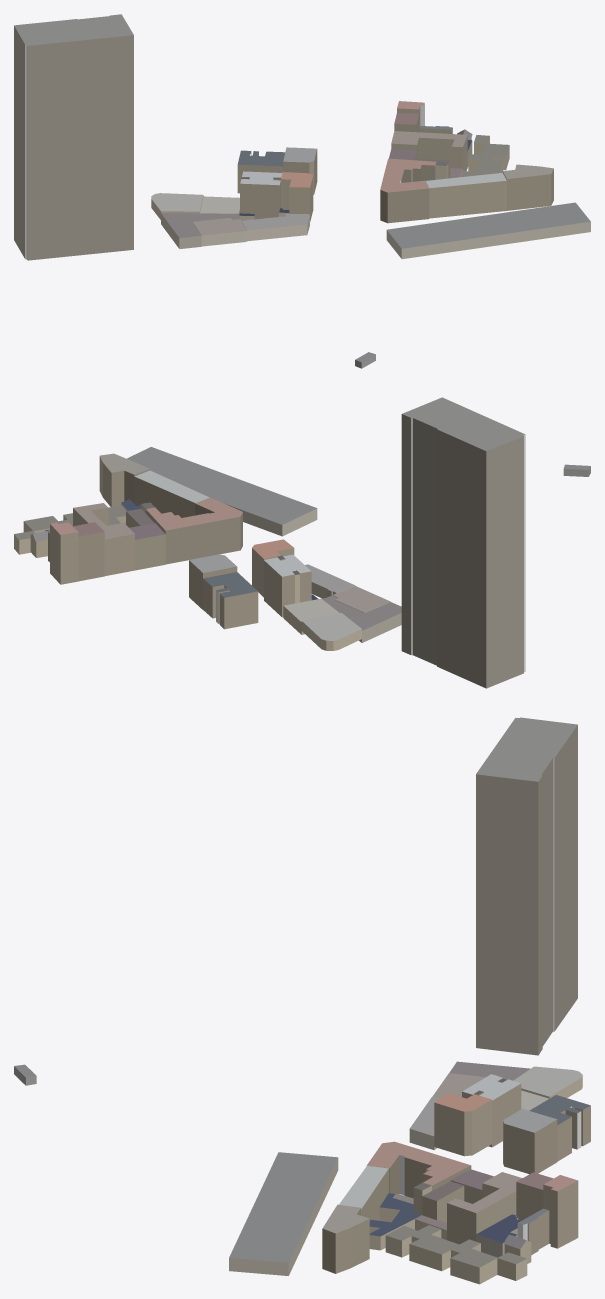
3 renders of one model, top to bottom at view 1: azimuth 30°, elevation 25°; view 2: azimuth 150°, elevation 25°; view 3: azimuth 270°, elevation 25°, orthographic. The views are drawn at different scales.
Visible parts, largest first — view 1: tuile; view 2: tuile; view 3: tuile.
Boxes of the visible parts, x1=… form: tuile: x1=14, y1=14, x2=590, y2=368; tuile: x1=14, y1=397, x2=590, y2=688; tuile: x1=14, y1=717, x2=590, y2=1284.
Size of the model in its own units: 267 by 118 by 223.
